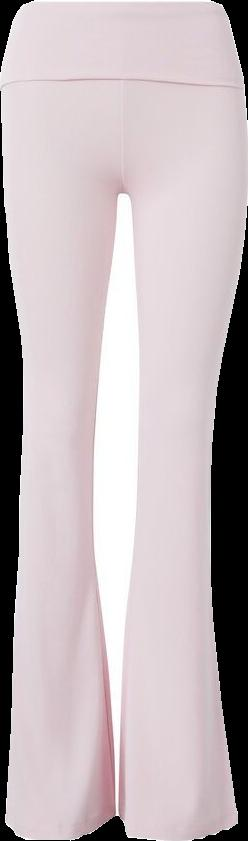Hemline: (2, 810, 115, 840), (116, 818, 241, 840)
Pantleg: (116, 0, 247, 840), (0, 0, 116, 839)
Waistline: (0, 72, 246, 92), (21, 0, 222, 12)
